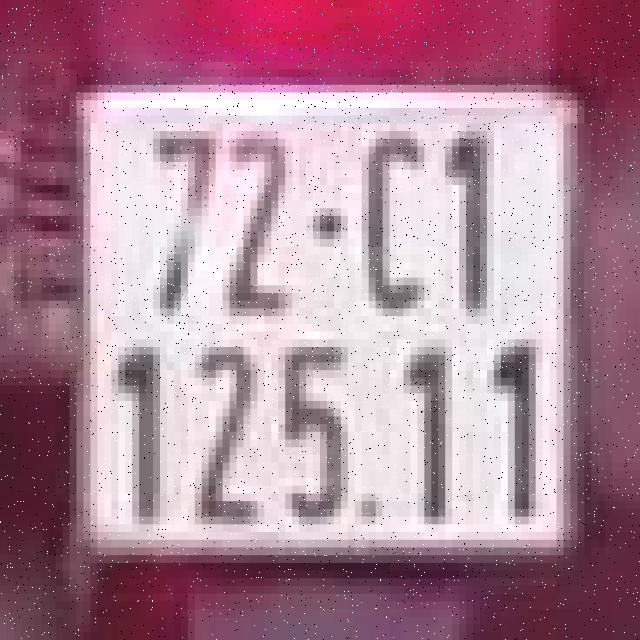1: (393, 320, 477, 536), (108, 343, 184, 528), (445, 116, 515, 316), (487, 332, 550, 532)
2: (219, 116, 296, 316), (188, 324, 257, 540)
5: (271, 308, 355, 540)
7: (136, 112, 212, 312)
C: (355, 120, 424, 320)
